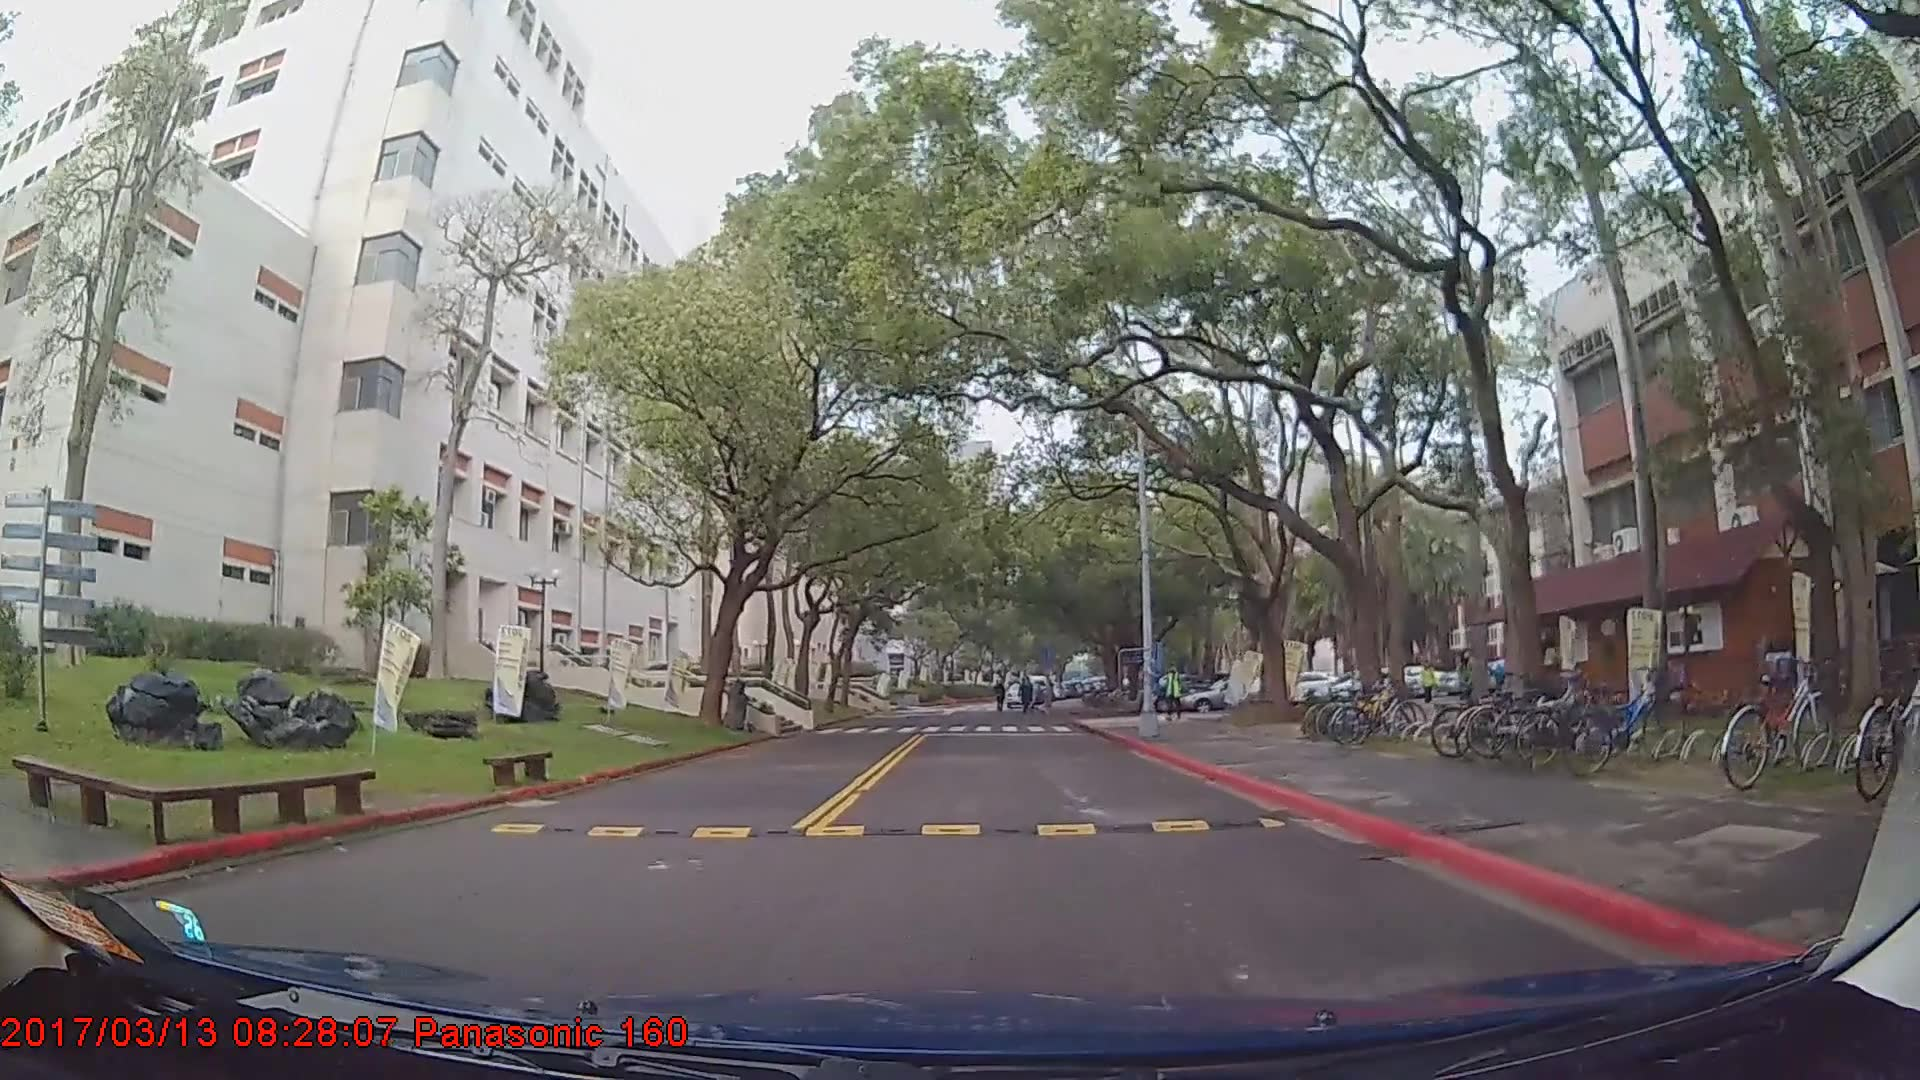vehicle: (1179, 676, 1273, 715)
